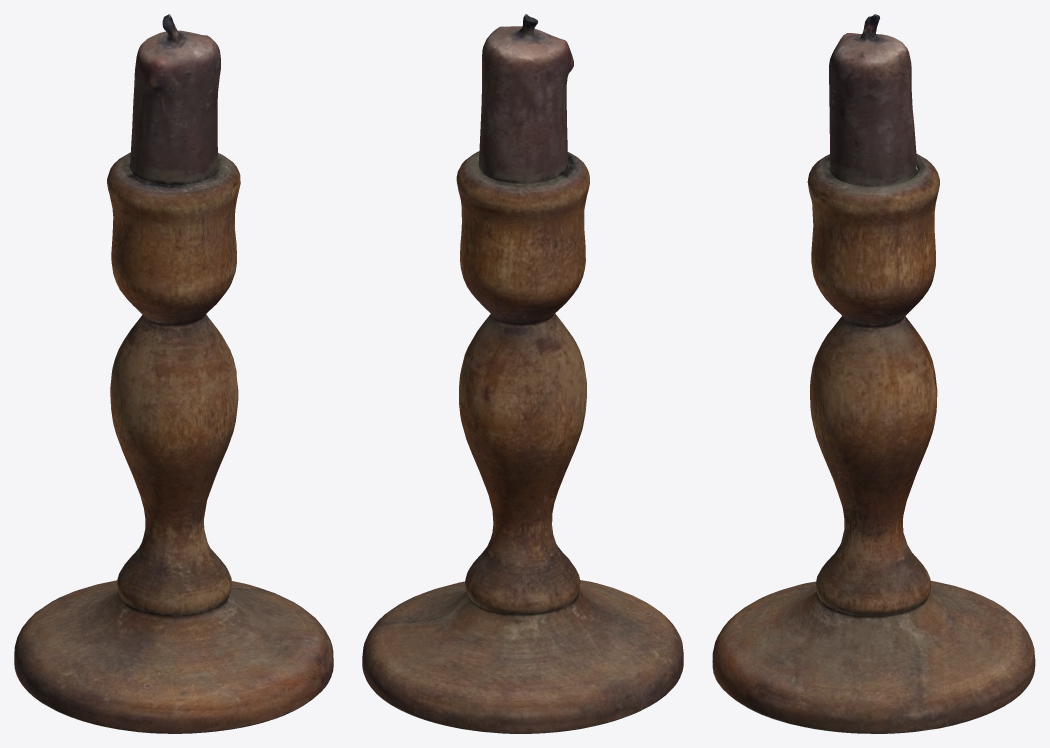
The model's file is wooden_candlestick.glb.
The picture shows the model from 3 angles, left to right: view 1: azimuth 30°, elevation 25°; view 2: azimuth 150°, elevation 25°; view 3: azimuth 270°, elevation 25°; orthographic projection.
Size of the model in its own units: 0.0972 by 0.2197 by 0.0986.
1 material, 1 textured.
